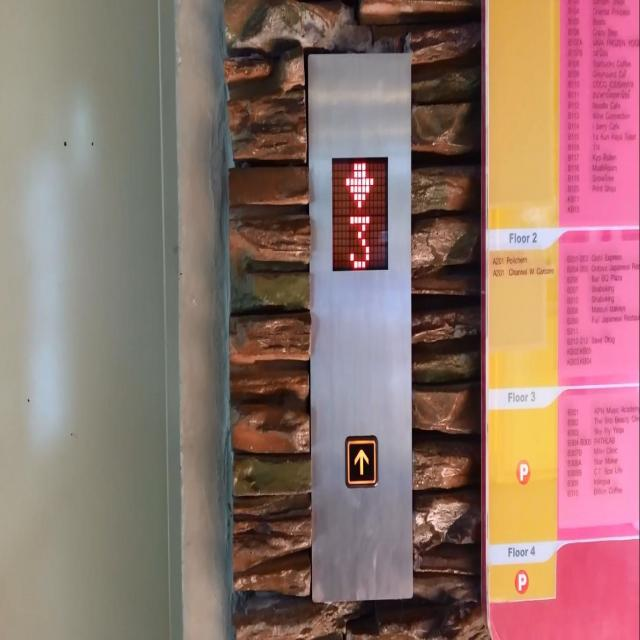led: (331, 156, 388, 272)
up: (345, 434, 378, 486)
